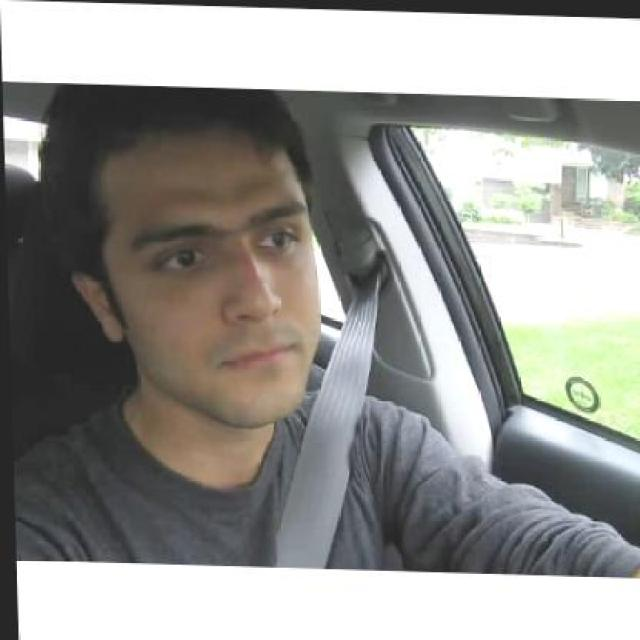attentif: (58, 82, 320, 432)
